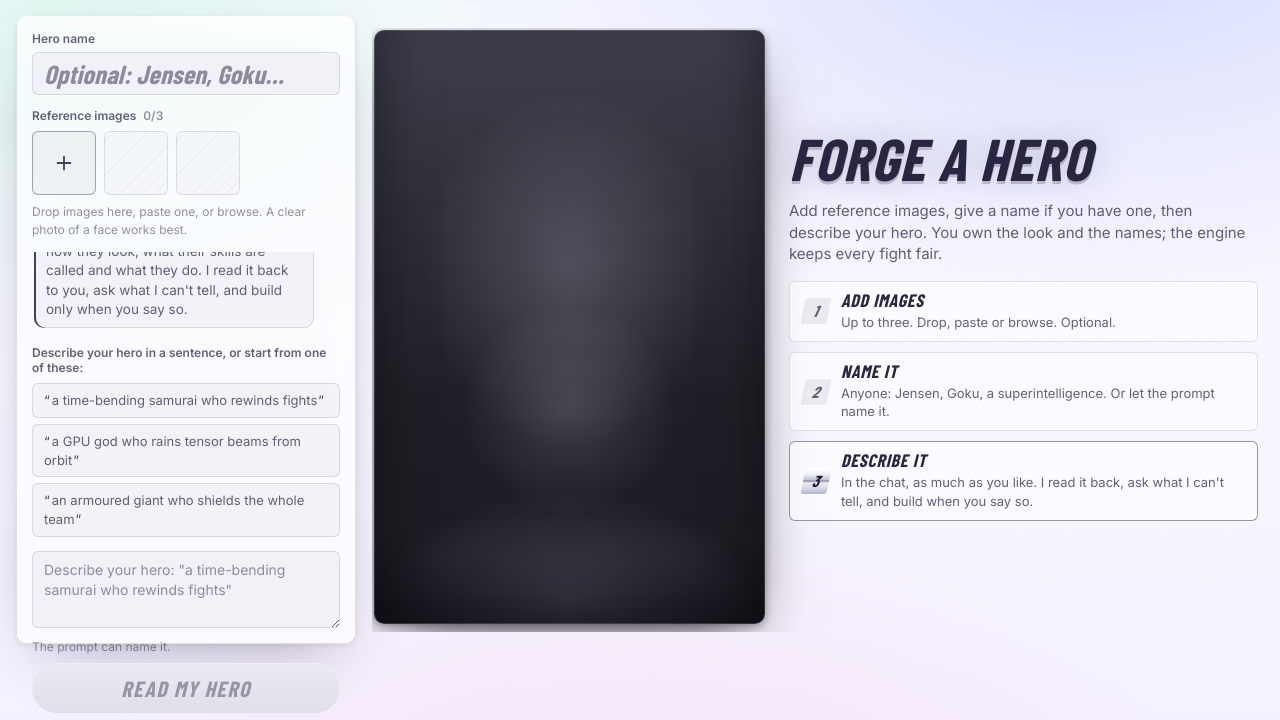
forge (U11) › name and first message produce a role, six skill cards and a stat split (F1)
The width and height of the screenshot is (1280, 720).
(page scrolled)
Type "Dario" into the field labelled "Hero name" at [186, 74], box [32,52,340,95]
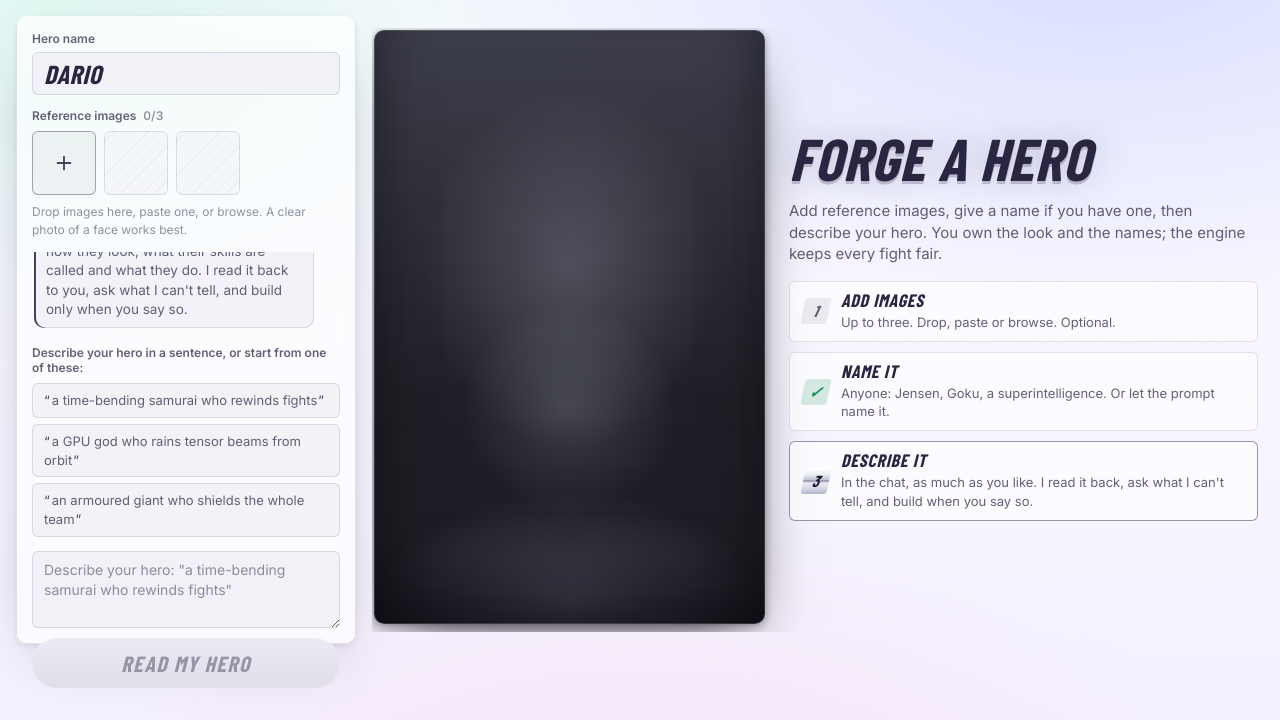
Replace the text in the text box named "Message" with "a genius who rewinds time and fires beams" at [186, 590], box [32,551,340,628]
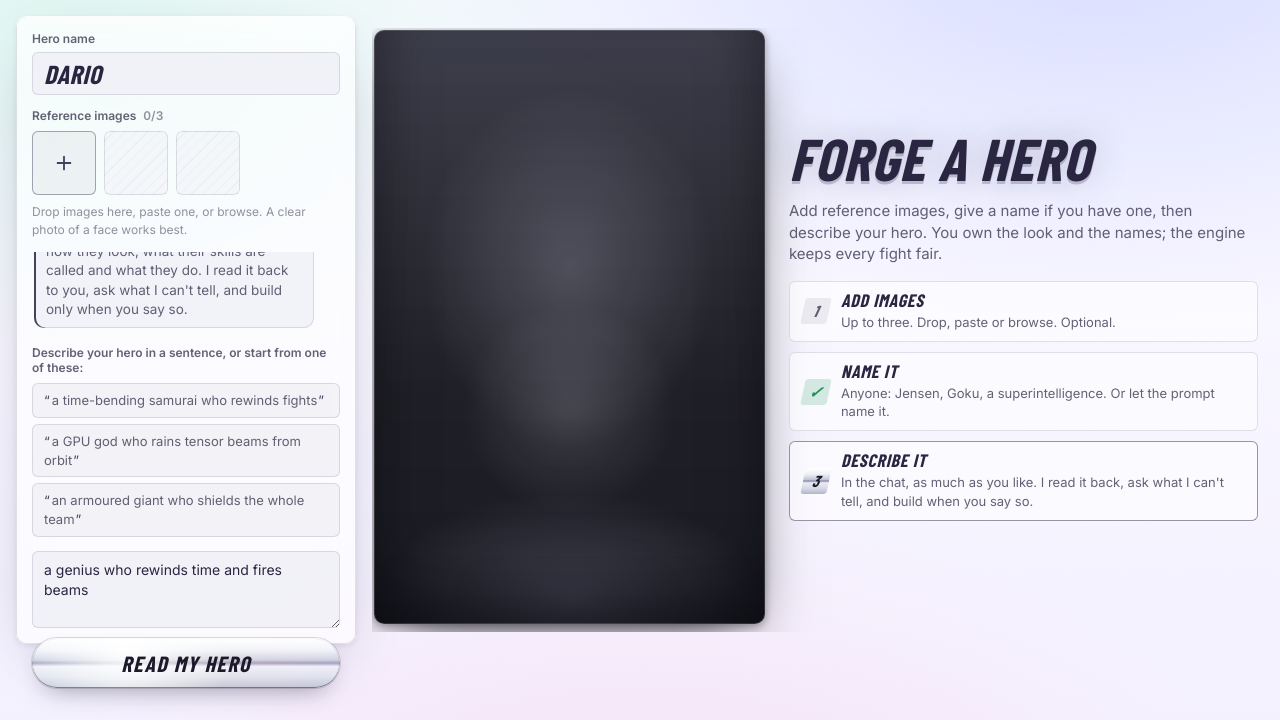
Click the button "Read my hero" at [186, 663], box [32,638,340,688]
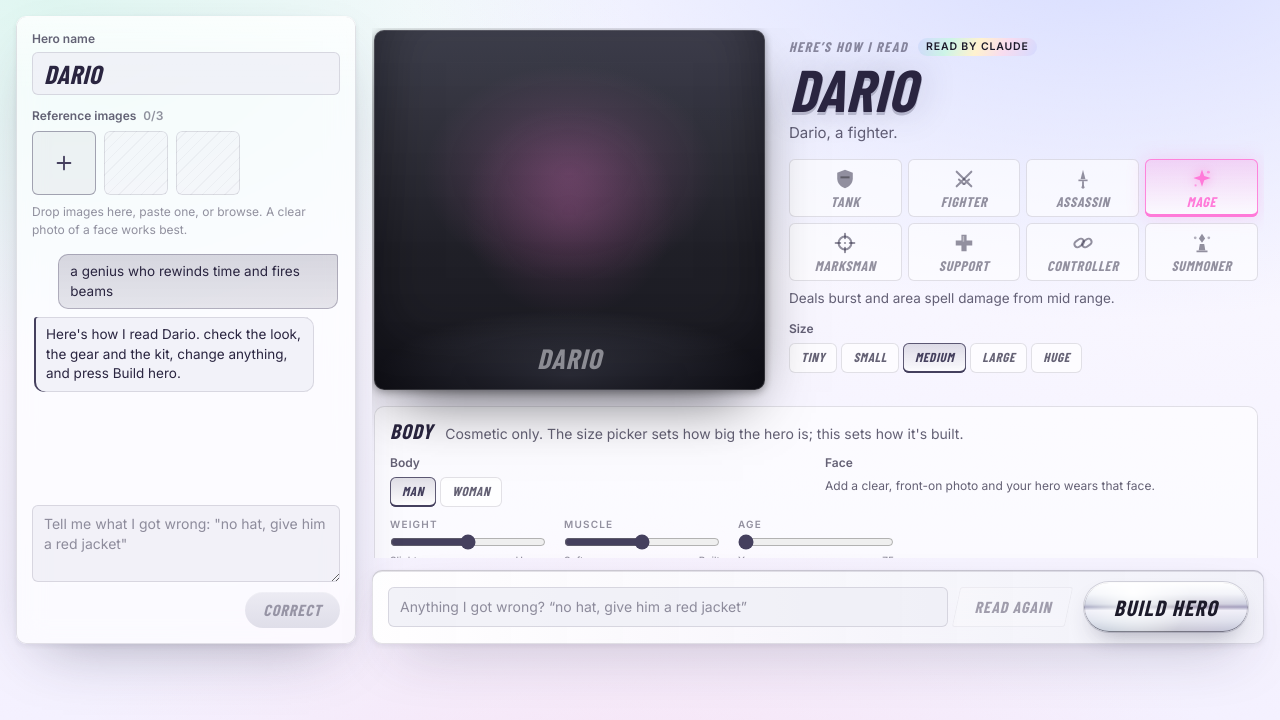
Click the button "Build hero" at [1166, 607], box [1084,582,1248,632]
(page scrolled)
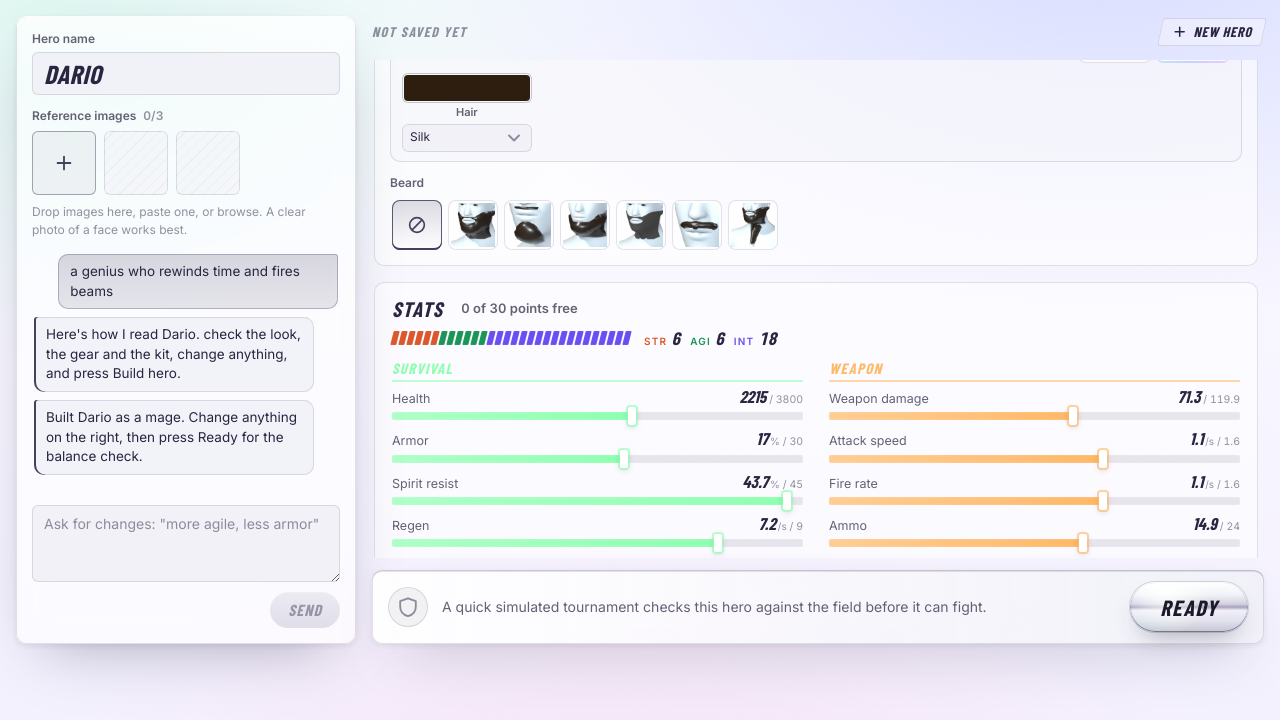
Check: the element named "Stat split" is shown, box [374,282,1258,558]
Check: the text "0 of 30 points free" is shown, box [461,302,578,315]
